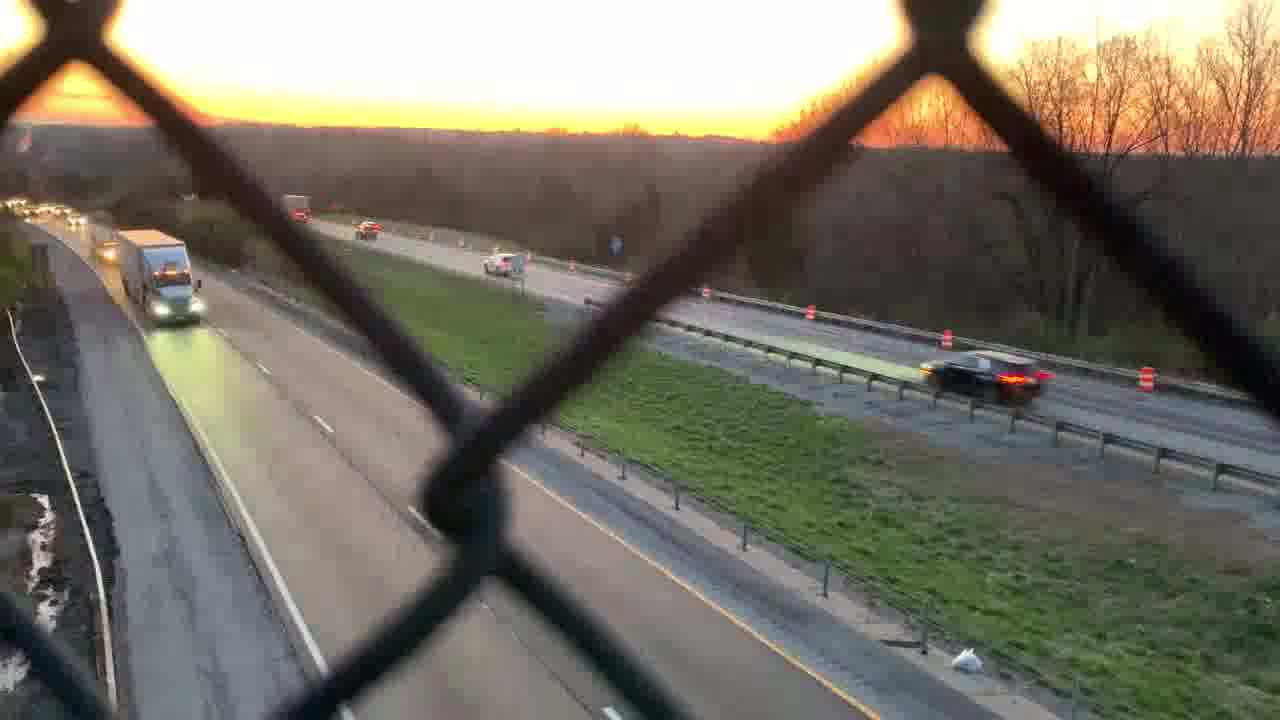heavyTruck: (111, 225, 213, 328)
largeCar: (917, 347, 1045, 409), (482, 252, 522, 275)
vehicle: (355, 217, 387, 237), (95, 239, 122, 262), (61, 213, 93, 228), (291, 206, 311, 223), (53, 204, 71, 219), (23, 206, 43, 218)
